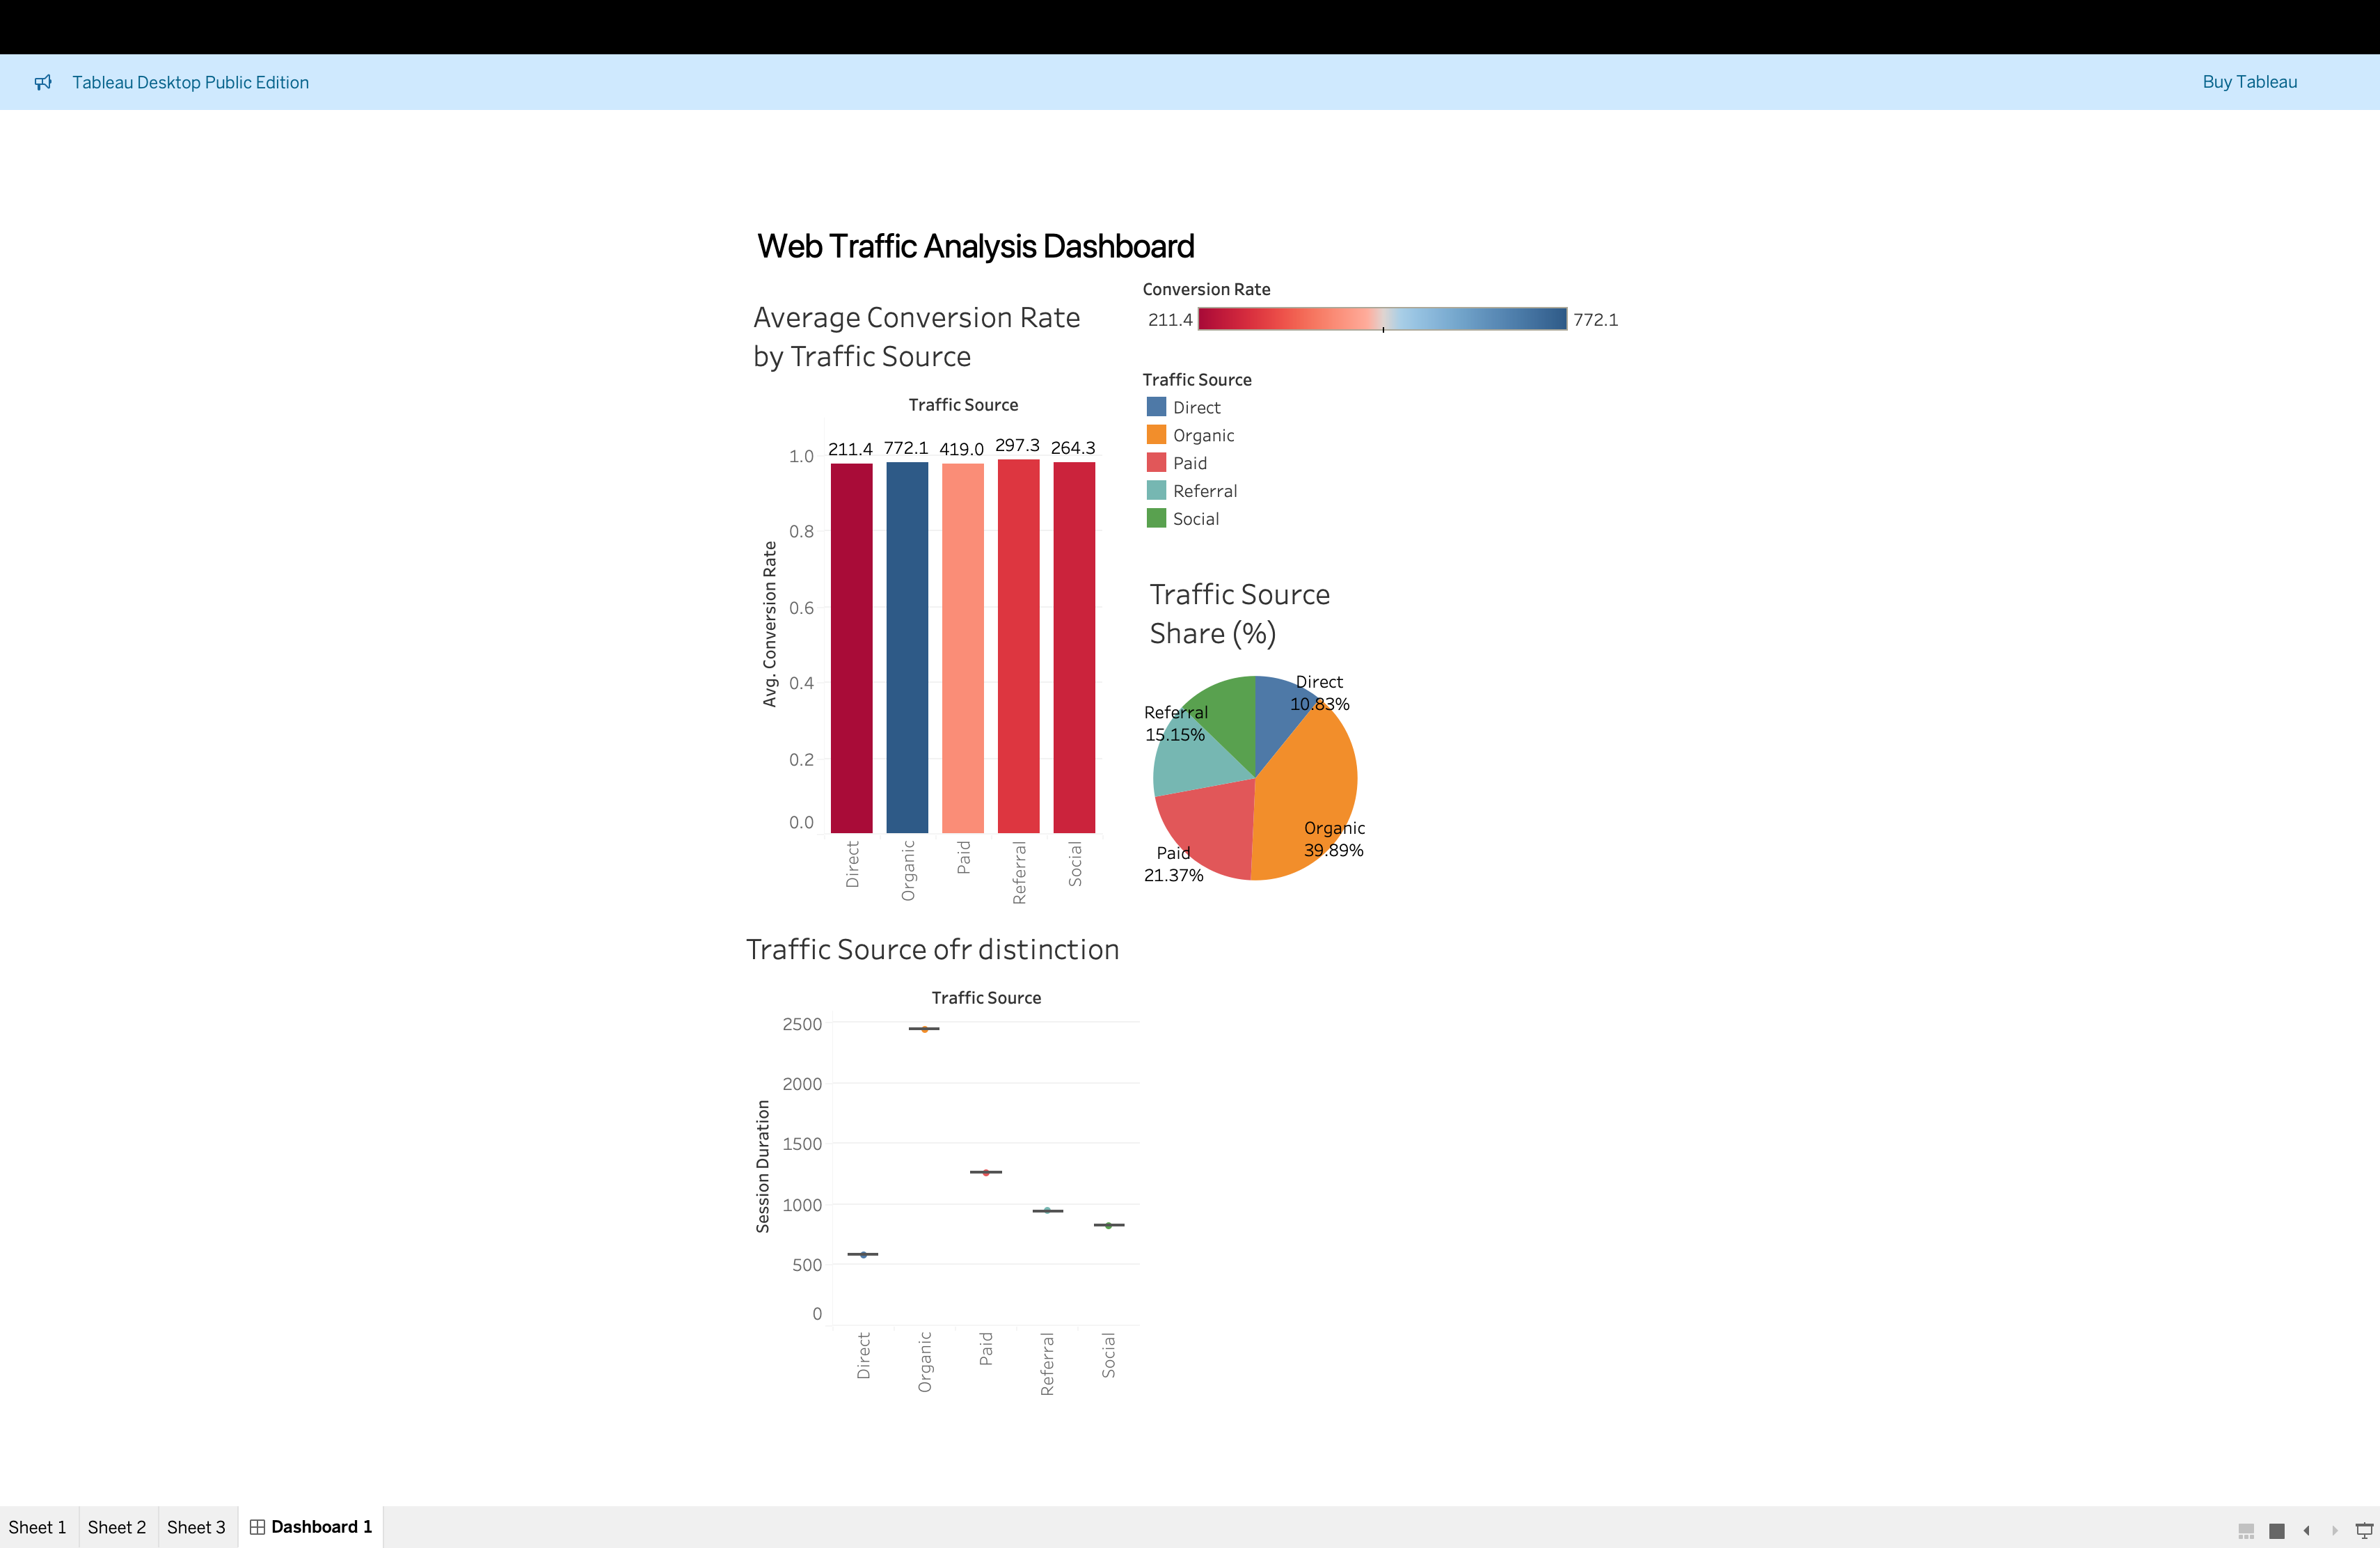

Layout of this report page (visuals, bound fields, positions):
{"tool":"tableau","page":{"name":"Dashboard 1","canvas":[650,860],"ordinal":0},"visuals":[{"type":"title","box":[8,8.2,634,43.3]},{"type":"legend","title":"Sheet 1","param":"[federated.05m0stn0jvc3ir152vjv91jrdxh1].[sum:Conversion Rate:qk]","box":[287,51.5,355,66.9]},{"type":"worksheet","title":"Sheet 1","mark":"Automatic","rows":["Conversion Rate"],"cols":["Traffic Source"],"box":[7,58.6,275,450]},{"type":"legend","title":"Sheet 3","param":"[federated.05m0stn0jvc3ir152vjv91jrdxh1].[none:Traffic Source:nk]","box":[287,118.4,355,129.8]},{"type":"worksheet","title":"Sheet 3","mark":"Pie","box":[292,257.9,332,301.1]},{"type":"worksheet","title":"Sheet 2","mark":"Circle","rows":["Session Duration"],"cols":["Traffic Source"],"box":[2,512.7,287,349.3]}]}

Visuals, with their boxes on the page's 650x860 design canvas (x1, y1, x2, y2). These are canvas units, not pixel positions in the 2380x1548 screenshot, which may show the page scaled, cropped or inside an application window:
title: <bbox>8, 8, 642, 52</bbox>
"Sheet 1" legend: <bbox>287, 52, 642, 118</bbox>
"Sheet 1" worksheet: <bbox>7, 59, 282, 509</bbox>
"Sheet 3" legend: <bbox>287, 118, 642, 248</bbox>
"Sheet 3" worksheet (Pie marks): <bbox>292, 258, 624, 559</bbox>
"Sheet 2" worksheet (Circle marks): <bbox>2, 513, 289, 862</bbox>
